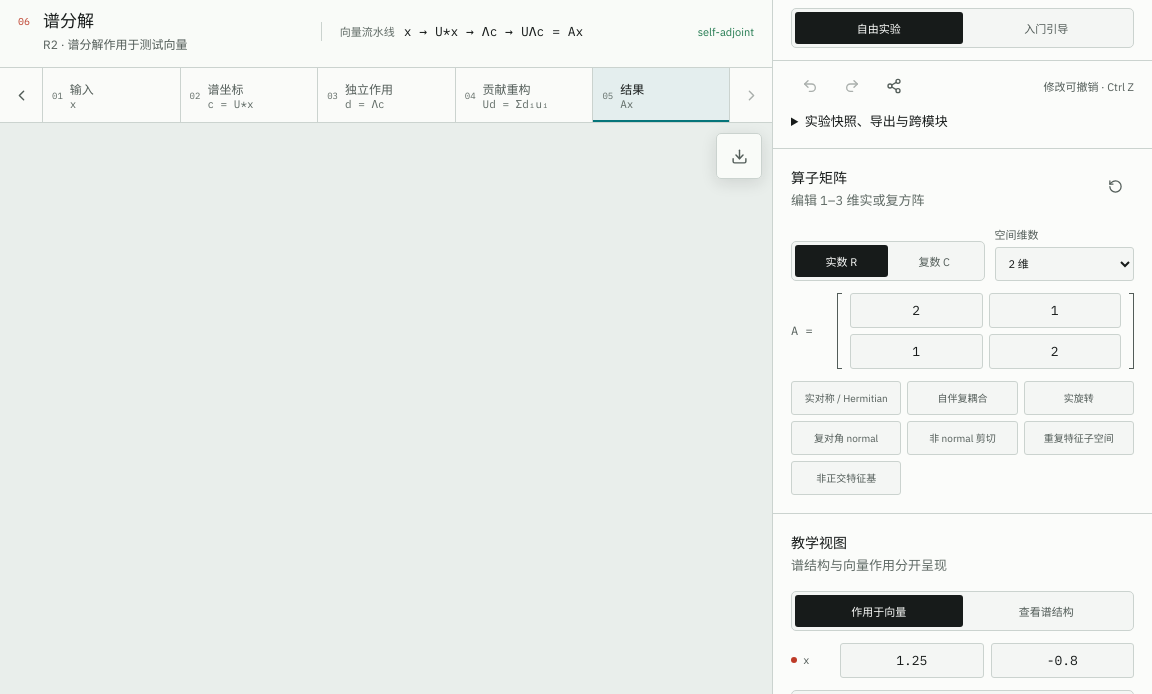
OperatorScene teaching workflow › turns a non-normal preset into an explicit commutator diagnostic
Click the button "非 normal 剪切" at (962, 438), box [907,421,1018,455]
(page scrolled)
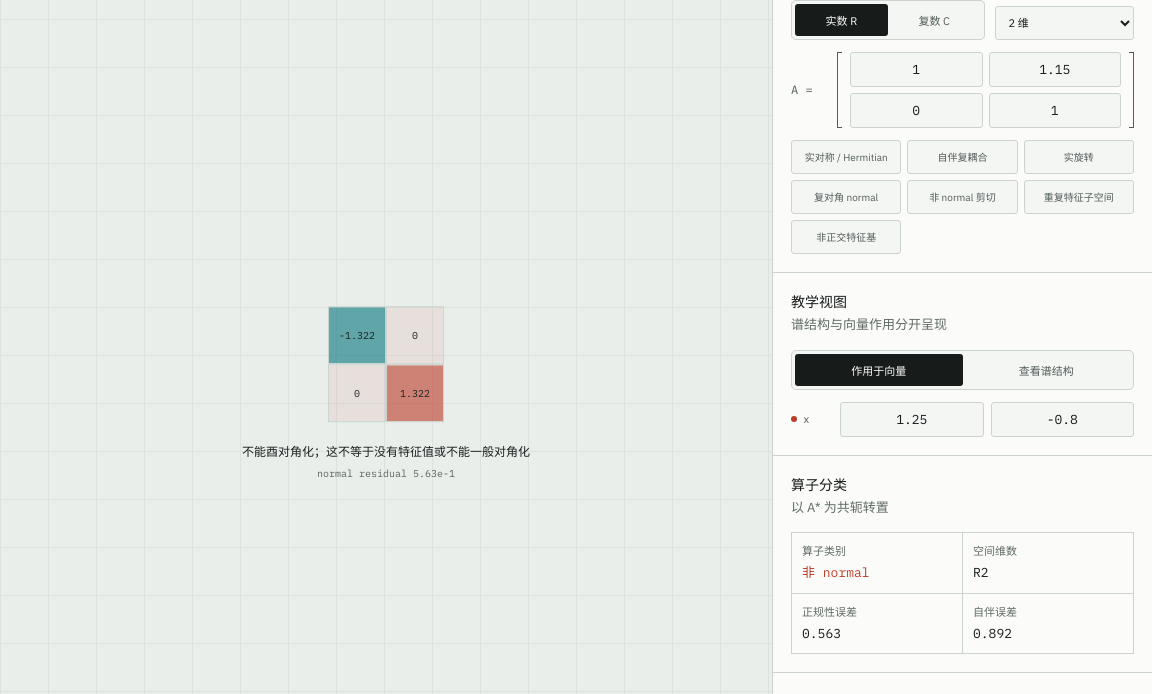
Expected: the element "谱分解教学步骤" is gone
